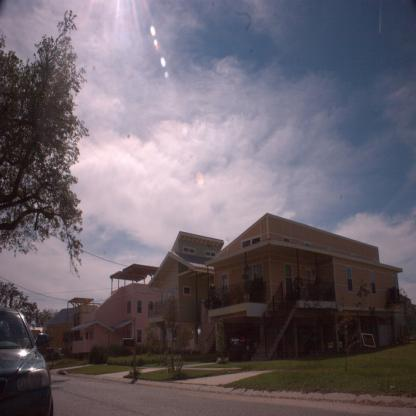Car: (3, 313, 49, 407)
